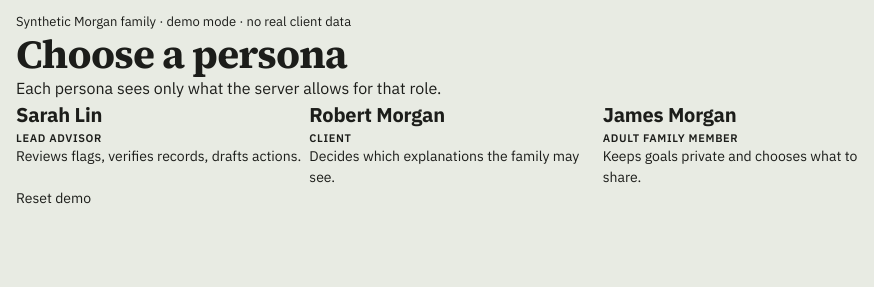
it: PersonaPicker Reset demo with a stale stored token › clears the session and shows an error when the retry is rejected too
Click the button "Reset demo": (54, 198) top-left (16, 188), bottom-right (91, 209)
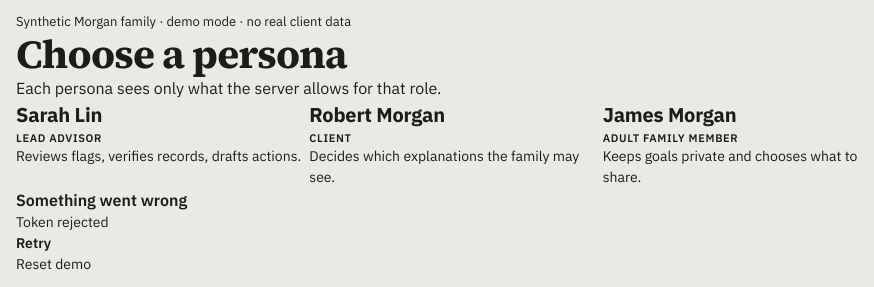
Expected: the message "Something went wrong Token rejected Retry" is shown, top-left (16, 190), bottom-right (187, 254)
